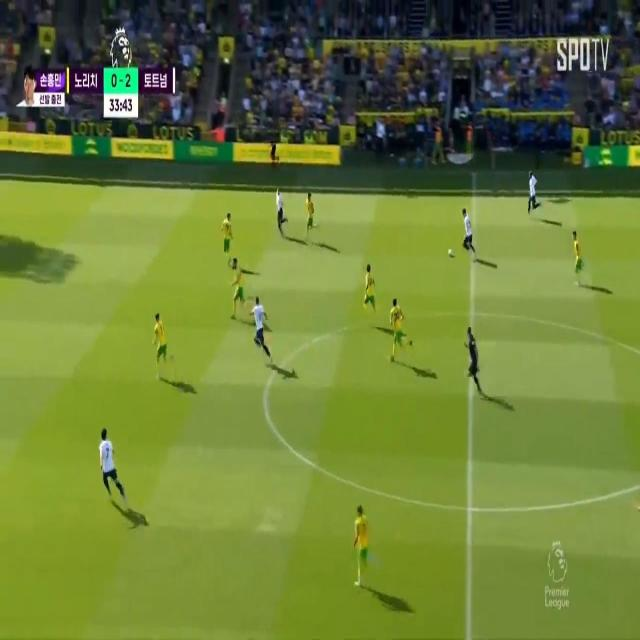ball: (444, 242, 456, 263)
player: (94, 428, 118, 502), (388, 297, 406, 367), (153, 307, 170, 378), (354, 507, 370, 578), (457, 206, 477, 259), (362, 262, 380, 320), (250, 294, 266, 351), (524, 169, 542, 219), (274, 186, 289, 245), (570, 226, 586, 280), (230, 254, 243, 318), (221, 208, 235, 254), (304, 191, 318, 236)
referee: (465, 327, 480, 389)
